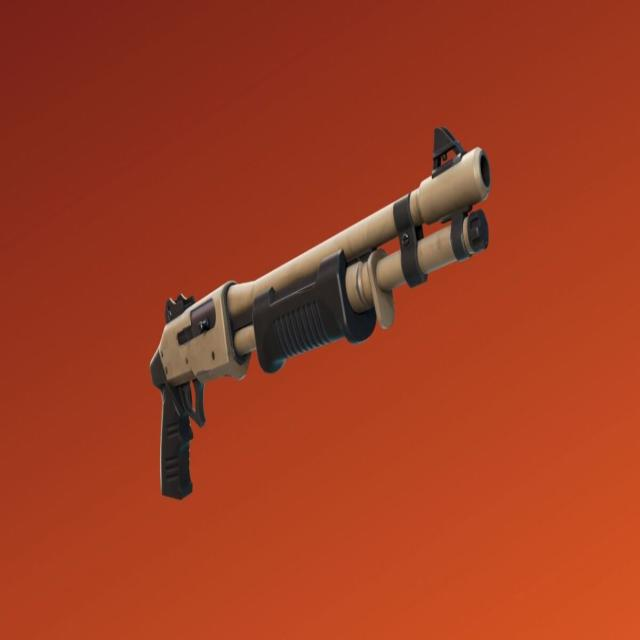ShotGun: (149, 129, 493, 502)
